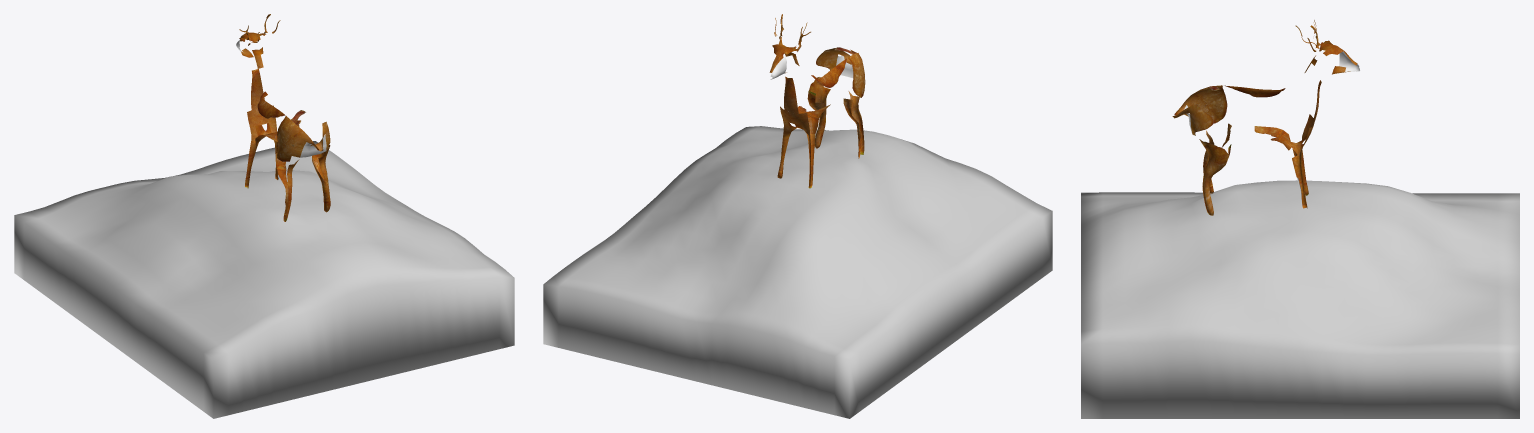
The model's file is deerveado.fbx.
3 views of the same model, side by side, from view 1: azimuth 30°, elevation 25°; view 2: azimuth 150°, elevation 25°; view 3: azimuth 270°, elevation 25° (orthographic). The views are drawn at different scales.
Parts seen in each view (by area): view 1: polySurface1, mmGroup0-retopo 1; view 2: polySurface1, mmGroup0-retopo 1; view 3: polySurface1, mmGroup0-retopo 1.
Part boxes in pixels (box(x1,y1,x2,y2)): polySurface1: box(14, 141, 514, 418); mmGroup0-retopo 1: box(236, 14, 330, 221); polySurface1: box(543, 126, 1052, 418); mmGroup0-retopo 1: box(769, 14, 865, 188); polySurface1: box(1081, 180, 1519, 418); mmGroup0-retopo 1: box(1172, 20, 1359, 215).
Bounding box in the file's own units: 132 × 121 × 151.
